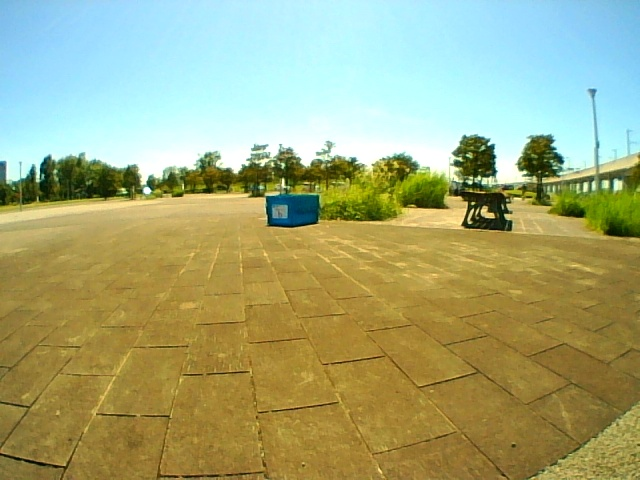blue_box: (267, 195, 318, 226)
tag_b: (272, 206, 288, 220)
